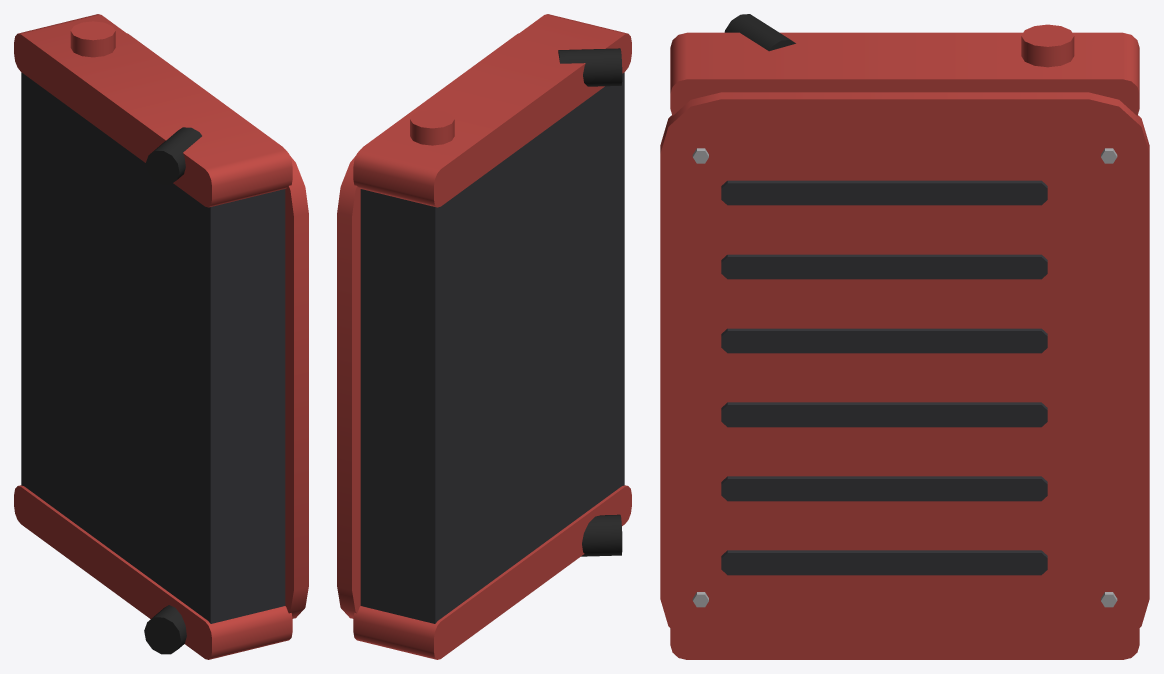
The model's file is side.glb.
The picture shows the model from 3 angles, left to right: view 1: azimuth 30°, elevation 25°; view 2: azimuth 150°, elevation 25°; view 3: azimuth 270°, elevation 25°; orthographic projection. The views are drawn at different scales.
Visible parts, largest first — view 1: lod0; view 2: lod0; view 3: lod0.
Part boxes in pixels (bbox=[...]): lod0: bbox=[14, 14, 308, 659]; lod0: bbox=[337, 14, 631, 659]; lod0: bbox=[660, 14, 1149, 659].
Size of what is drawn, in the model's own units: 0.0846 by 0.33 by 0.24.
